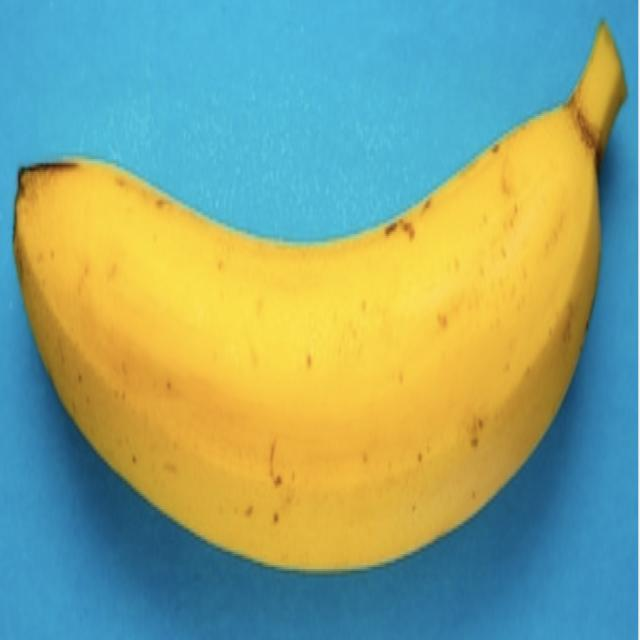Banana: (21, 118, 615, 601)
